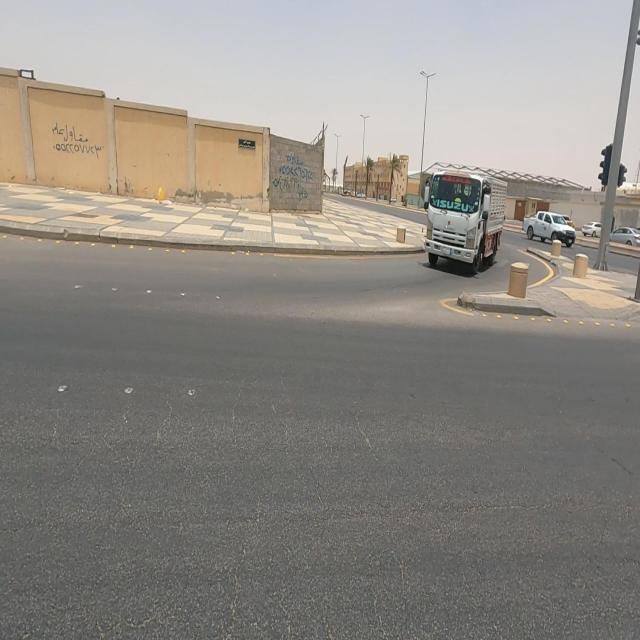Graffiti: (53, 122, 103, 164), (274, 151, 315, 201)
